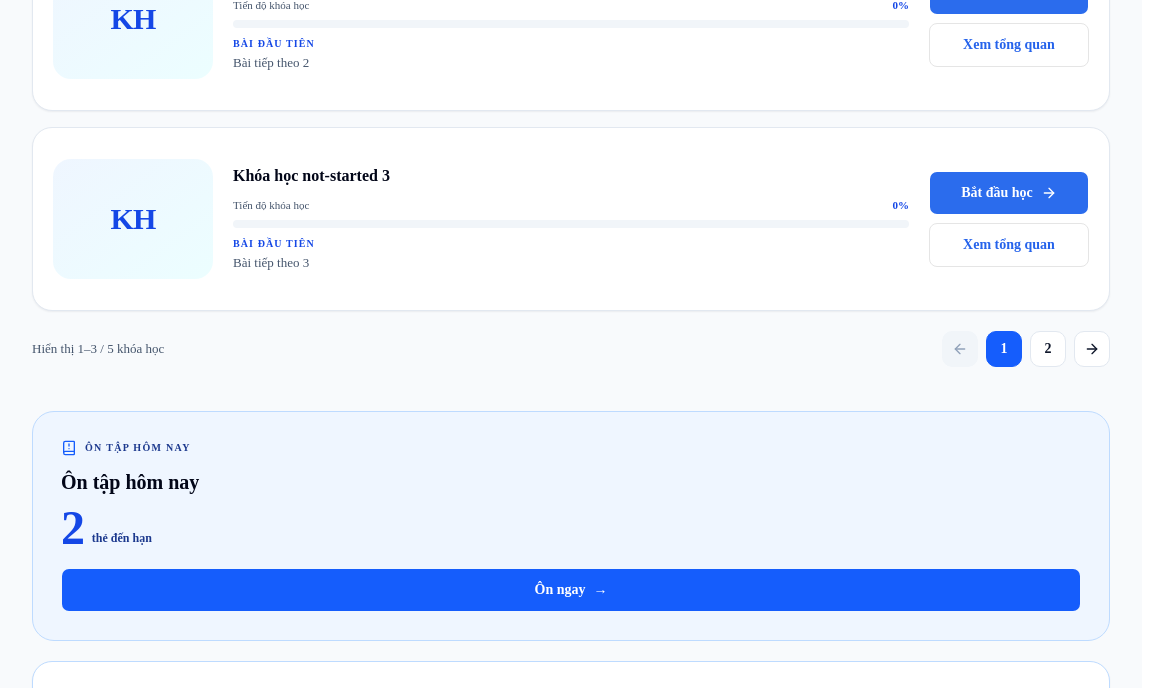
Scenario: LearnDashboardClient course interactions › filters visible courses and resets pagination to the first page
The image size is (1152, 688).
(page scrolled)
What coordinates should you click on to do the following:
click the button named "Trang sau"
I would click on:
 (1092, 348)
Its box is top-left (1074, 330), bottom-right (1110, 366).
(page scrolled)
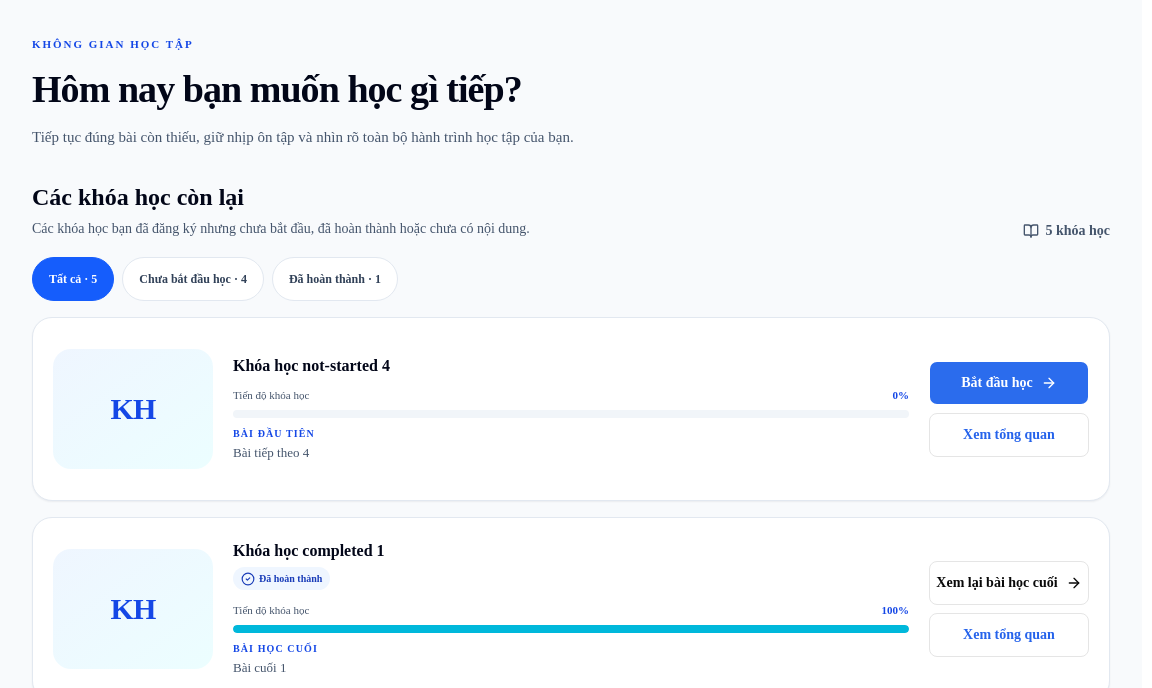
Check: the heading "Khóa học not-started 4" is shown, box top-left (233, 357), bottom-right (390, 374)
What coordinates should you click on to do the following:
click the button "Chưa bắt đầu học · 4"
I would click on:
 (193, 278)
Its box is top-left (122, 256), bottom-right (264, 300).
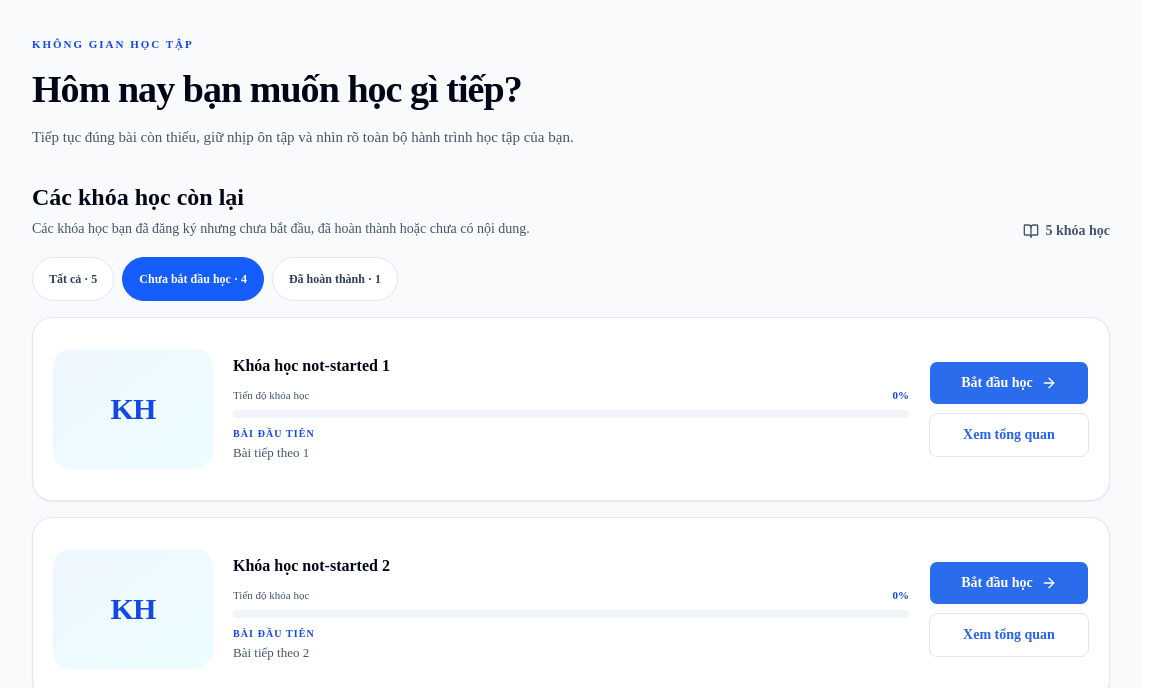
Check: the heading "Khóa học not-started 1" is shown, box top-left (233, 357), bottom-right (390, 374)
Check: the heading "Khóa học not-started 4" is gone
Check: the heading "Khóa học completed 1" is gone
What coordinates should you click on to do the following:
click the button "Đã hoàn thành · 1"
I would click on:
 (335, 278)
Its box is top-left (272, 256), bottom-right (398, 300).
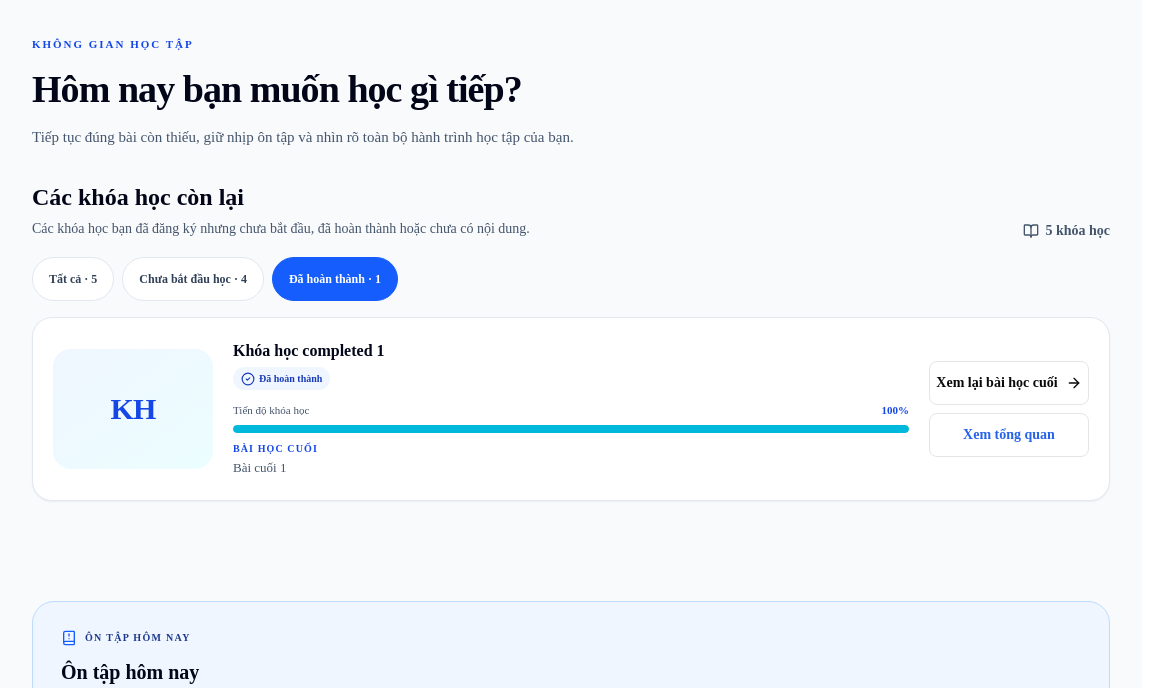
Check: the heading "Khóa học completed 1" is shown, box top-left (233, 342), bottom-right (384, 359)
Check: the heading "Khóa học not-started 1" is gone
